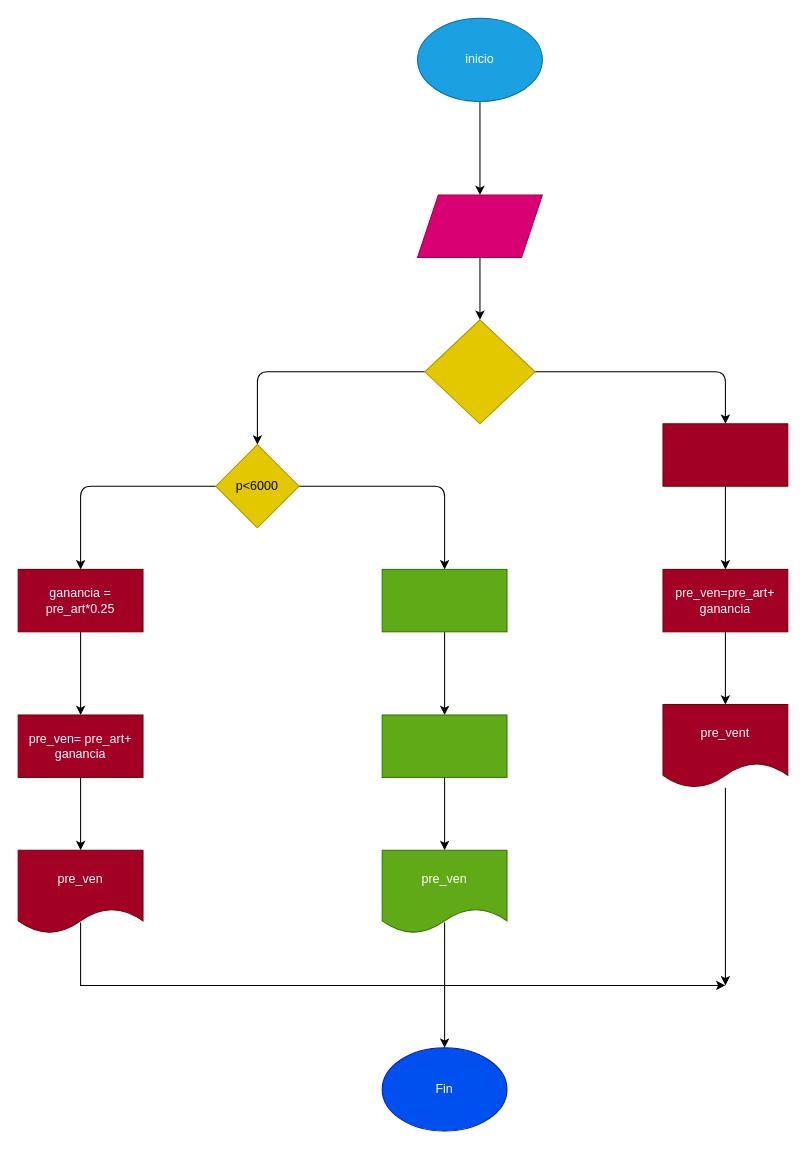
Some shapes in this 806 by 1149 pixel diagram are drawn without their labels. Each missing label, with the box of its shape:
ganancia=500: (381, 568, 507, 632)
ganancio=pre_art* 0.15%: (662, 423, 788, 486)
pre_ven = pre_art + ganancia: (381, 714, 507, 777)
Precio: (417, 194, 542, 257)
Precio<3000: (424, 319, 535, 424)
